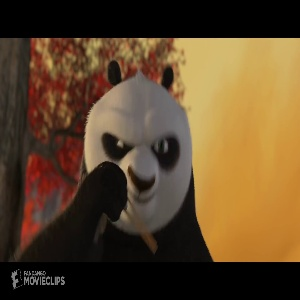po: (15, 59, 217, 264)
